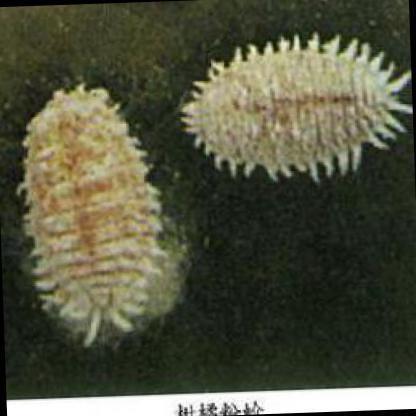mealy bug: (21, 91, 160, 344), (189, 32, 412, 179)
